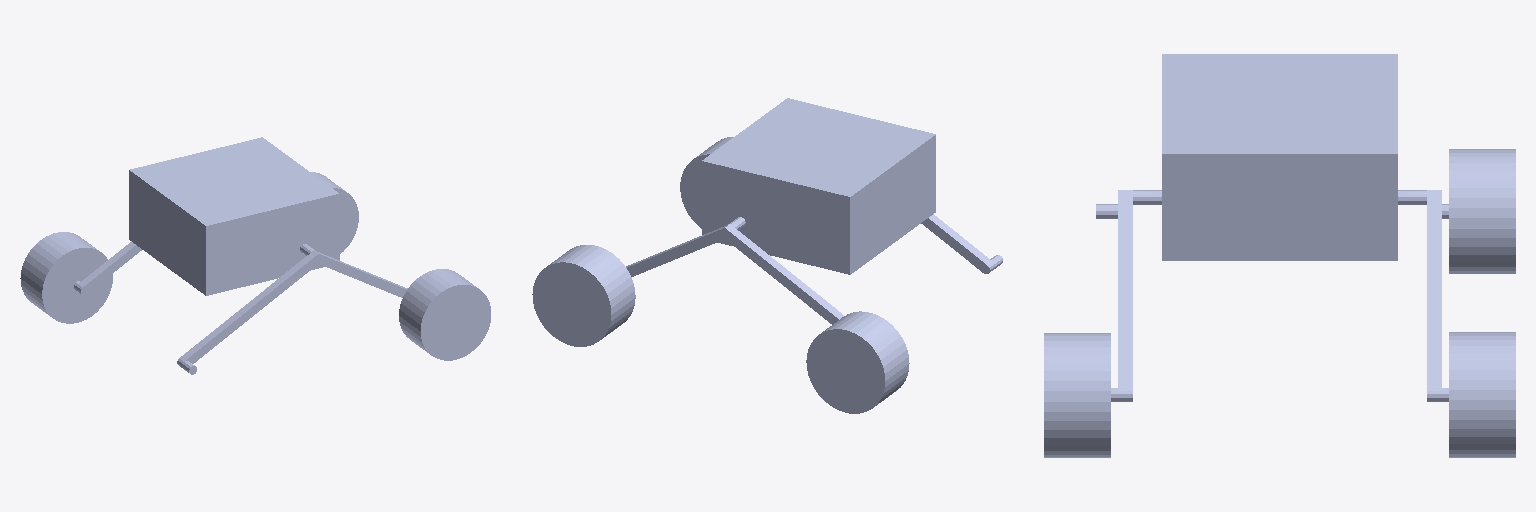
URDF robot description (LUCY26):
<?xml version="1.0" encoding="utf-8"?>
<!-- This URDF was automatically created by SolidWorks to URDF Exporter! Originally created by [author] ([email redacted]) 
     Commit Version: 1.6.0-4-g7f85cfe  Build Version: 1.6.7995.38578
     For more information, please see http://wiki.ros.org/sw_urdf_exporter -->
<robot
  name="LUCY26">
  <link
    name="base_link">
    <inertial>
      <origin
        xyz="0.00256212440400067 -1.0758573137582E-17 -0.106840952012263"
        rpy="0 0 0" />
      <mass
        value="34.8294718636289" />
      <inertia
        ixx="0.699573036535457"
        ixy="5.27725253405296E-16"
        ixz="0.0111588723088867"
        iyy="0.681505842283892"
        iyz="-1.74372249839835E-16"
        izz="1.08723591591087" />
    </inertial>
    <visual>
      <origin
        xyz="0 0 0"
        rpy="0 0 0" />
      <geometry>
        <mesh
          filename="package://LUCY26/meshes/base_link.STL" />
      </geometry>
      <material
        name="">
        <color
          rgba="0.792156862745098 0.819607843137255 0.933333333333333 1" />
      </material>
    </visual>
    <collision>
      <origin
        xyz="0 0 0"
        rpy="0 0 0" />
      <geometry>
        <mesh
          filename="package://LUCY26/meshes/base_link.STL" />
      </geometry>
    </collision>
  </link>
  <link
    name="link_BR">
    <inertial>
      <origin
        xyz="0 0.057013 -2.7756E-17"
        rpy="0 0 0" />
      <mass
        value="4.1716" />
      <inertia
        ixx="0.01672"
        ixy="-3.9506E-21"
        ixz="-3.3648E-37"
        iyy="0.02438"
        iyz="-5.0246E-35"
        izz="0.01672" />
    </inertial>
    <visual>
      <origin
        xyz="0 0 0"
        rpy="0 0 0" />
      <geometry>
        <mesh
          filename="package://LUCY26/meshes/link_BR.STL" />
      </geometry>
      <material
        name="">
        <color
          rgba="0.79216 0.81961 0.93333 1" />
      </material>
    </visual>
    <collision>
      <origin
        xyz="0 0 0"
        rpy="0 0 0" />
      <geometry>
        <mesh
          filename="package://LUCY26/meshes/link_BR.STL" />
      </geometry>
    </collision>
  </link>
  <joint
    name="joint_BR"
    type="continuous">
    <origin
      xyz="-0.30823 -0.4064 -0.34863"
      rpy="0 0 0" />
    <parent
      link="base_link" />
    <child
      link="link_BR" />
    <axis
      xyz="0 1 0" />
  </joint>
  <link
    name="link_FR">
    <inertial>
      <origin
        xyz="0 0.057013 0"
        rpy="0 0 0" />
      <mass
        value="4.1716" />
      <inertia
        ixx="0.01672"
        ixy="-3.9506E-21"
        ixz="4.6379E-34"
        iyy="0.02438"
        iyz="1.4988E-34"
        izz="0.01672" />
    </inertial>
    <visual>
      <origin
        xyz="0 0 0"
        rpy="0 0 0" />
      <geometry>
        <mesh
          filename="package://LUCY26/meshes/link_FR.STL" />
      </geometry>
      <material
        name="">
        <color
          rgba="0.79216 0.81961 0.93333 1" />
      </material>
    </visual>
    <collision>
      <origin
        xyz="0 0 0"
        rpy="0 0 0" />
      <geometry>
        <mesh
          filename="package://LUCY26/meshes/link_FR.STL" />
      </geometry>
    </collision>
  </link>
  <joint
    name="joint_FR"
    type="continuous">
    <origin
      xyz="0.4401 -0.4064 -0.34863"
      rpy="0 0 0" />
    <parent
      link="base_link" />
    <child
      link="link_FR" />
    <axis
      xyz="0 1 0" />
  </joint>
  <link
    name="link_FL">
    <inertial>
      <origin
        xyz="0 -0.057013 -2.7756E-17"
        rpy="0 0 0" />
      <mass
        value="4.1716" />
      <inertia
        ixx="0.01672"
        ixy="5.5672E-21"
        ixz="2.2842E-18"
        iyy="0.02438"
        iyz="9.5433E-21"
        izz="0.01672" />
    </inertial>
    <visual>
      <origin
        xyz="0 0 0"
        rpy="0 0 0" />
      <geometry>
        <mesh
          filename="package://LUCY26/meshes/link_FL.STL" />
      </geometry>
      <material
        name="">
        <color
          rgba="0.79216 0.81961 0.93333 1" />
      </material>
    </visual>
    <collision>
      <origin
        xyz="0 0 0"
        rpy="0 0 0" />
      <geometry>
        <mesh
          filename="package://LUCY26/meshes/link_FL.STL" />
      </geometry>
    </collision>
  </link>
  <joint
    name="joint_FL"
    type="continuous">
    <origin
      xyz="0.4401 0.4064 -0.34863"
      rpy="0 0 0" />
    <parent
      link="base_link" />
    <child
      link="link_FL" />
    <axis
      xyz="0 1 0" />
  </joint>
  <link
    name="link_BL">
    <inertial>
      <origin
        xyz="0 -0.057013 -2.7756E-17"
        rpy="0 0 0" />
      <mass
        value="4.1716" />
      <inertia
        ixx="0.01672"
        ixy="-3.9506E-21"
        ixz="3.3648E-37"
        iyy="0.02438"
        iyz="5.0246E-35"
        izz="0.01672" />
    </inertial>
    <visual>
      <origin
        xyz="0 0 0"
        rpy="0 0 0" />
      <geometry>
        <mesh
          filename="package://LUCY26/meshes/link_BL.STL" />
      </geometry>
      <material
        name="">
        <color
          rgba="0.79216 0.81961 0.93333 1" />
      </material>
    </visual>
    <collision>
      <origin
        xyz="0 0 0"
        rpy="0 0 0" />
      <geometry>
        <mesh
          filename="package://LUCY26/meshes/link_BL.STL" />
      </geometry>
    </collision>
  </link>
  <joint
    name="joint_BL"
    type="continuous">
    <origin
      xyz="-0.30823 0.4064 -0.34863"
      rpy="0 0 0" />
    <parent
      link="base_link" />
    <child
      link="link_BL" />
    <axis
      xyz="0 1 0" />
  </joint>
</robot>

--- What the picture shows (computed from the rendered views, not written in the file) ---
Views: 3 orthographic renders of the robot side by side, from view 1: azimuth 30°, elevation 25°; view 2: azimuth 150°, elevation 25°; view 3: azimuth 270°, elevation 25°.
Model LUCY26 with 5 links and 4 joints (4 continuous), rooted at base_link, posed all joints at 0.
Visible links, largest first — view 1: base_link, link_FR, link_BL, link_FL; view 2: base_link, link_FL, link_BL, link_FR; view 3: base_link, link_FL, link_FR, link_BL.
Boxes of the visible links, x1,y1,x2,y2 form: base_link: [74, 137, 407, 374]; link_FR: [399, 269, 490, 360]; link_BL: [20, 232, 112, 323]; link_FL: [311, 172, 358, 253]; base_link: [626, 98, 1002, 324]; link_FL: [532, 245, 635, 346]; link_BL: [806, 311, 909, 413]; link_FR: [680, 137, 733, 228]; base_link: [1096, 54, 1448, 401]; link_FL: [1449, 332, 1515, 457]; link_FR: [1044, 333, 1110, 457]; link_BL: [1449, 149, 1515, 273].
Size in the robot's own frame: 0.9642 by 0.8128 by 0.4564 metres.
Meshes: 5 distinct files referenced, 4 mesh visuals loaded (4 binary STL); not drawn: 1 (reference not matched to a file when rendering).
